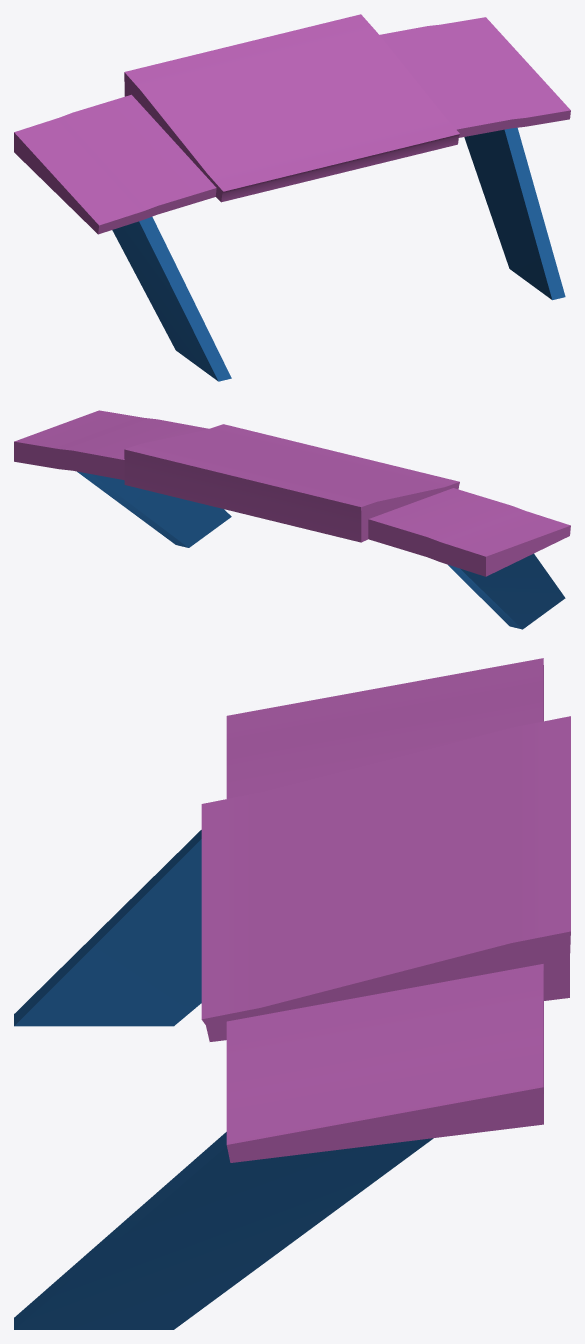
Rendered from MuscleSpoiler00C04.gltf.
3 views of the same model, one above another, from view 1: azimuth 30°, elevation 25°; view 2: azimuth 150°, elevation 25°; view 3: azimuth 270°, elevation 25° (orthographic). The views are drawn at different scales.
Visible parts, largest first — view 1: MuscleSpoiler00C04; view 2: MuscleSpoiler00C04; view 3: MuscleSpoiler00C04.
Boxes of the visible parts, box(x1,y1,x2,y2) form: MuscleSpoiler00C04: box(14, 14, 570, 381); MuscleSpoiler00C04: box(14, 410, 570, 629); MuscleSpoiler00C04: box(14, 658, 570, 1329).
Bounding box in the file's own units: 0.1573 × 0.0596 × 0.0863.
